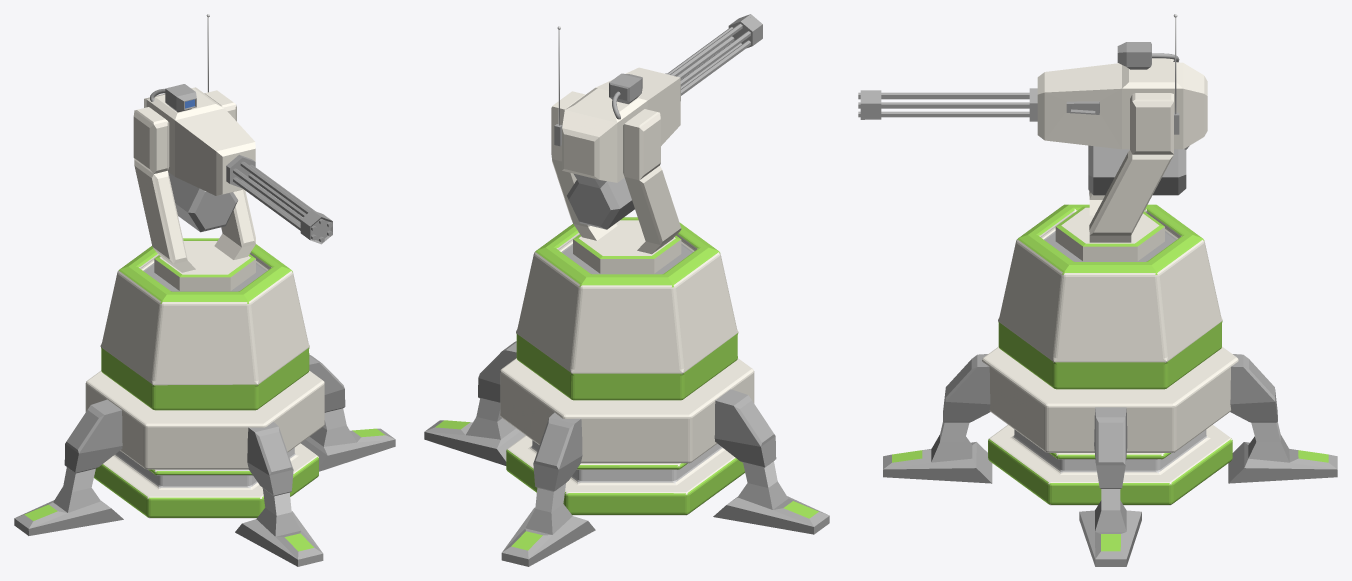
File: Gatling Turret.fbx
3 renders of one model, left to right at view 1: azimuth 30°, elevation 25°; view 2: azimuth 150°, elevation 25°; view 3: azimuth 270°, elevation 25°, orthographic. The views are drawn at different scales.
Visible parts, largest first — view 1: Gatling Turret, Horizontal Rotation, Leg.001, Vertical Rotation, Leg.002, Camera, Endcap, Barrel, Barrel.005, Barrel.002; view 2: Gatling Turret, Leg.001, Horizontal Rotation, Vertical Rotation, Leg.002, Camera, Endcap, Barrel.005, Barrel, Barrel.002; view 3: Gatling Turret, Vertical Rotation, Leg.002, Horizontal Rotation, Leg.001, Barrel, Barrel.003, Barrel.004, Camera, Endcap.
Part boxes in pixels (x1,y1,x2,y2): Gatling Turret: (85, 238, 324, 518); Horizontal Rotation: (133, 90, 255, 291); Leg.001: (14, 354, 395, 535); Vertical Rotation: (144, 87, 255, 232); Leg.002: (235, 421, 323, 566); Camera: (165, 84, 196, 112); Endcap: (300, 210, 332, 244); Barrel: (240, 161, 324, 224); Barrel.005: (233, 168, 316, 231); Barrel.002: (233, 177, 316, 240); Gatling Turret: (500, 217, 754, 515); Leg.001: (424, 341, 829, 534); Horizontal Rotation: (551, 91, 681, 273); Vertical Rotation: (562, 67, 680, 229); Leg.002: (501, 412, 595, 566); Camera: (609, 73, 642, 104); Endcap: (728, 14, 762, 48); Barrel.005: (680, 31, 750, 86); Barrel: (670, 24, 742, 76); Barrel.002: (681, 40, 750, 95); Gatling Turret: (982, 204, 1238, 505); Vertical Rotation: (1037, 62, 1207, 195); Leg.002: (883, 354, 1337, 483); Horizontal Rotation: (1055, 58, 1173, 261); Leg.001: (1079, 407, 1141, 566); Barrel: (858, 92, 1029, 97); Barrel.003: (858, 111, 1029, 116); Barrel.004: (858, 102, 1029, 107); Camera: (1117, 42, 1151, 69); Endcap: (860, 90, 881, 119).
Bounding box in the file's own units: 185 × 212 × 195.
